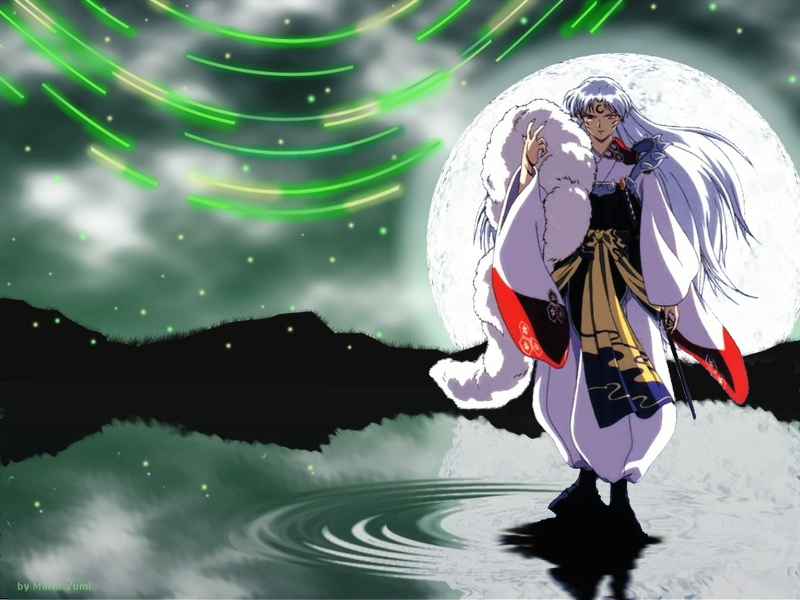sesshomaru: (536, 74, 653, 173)
